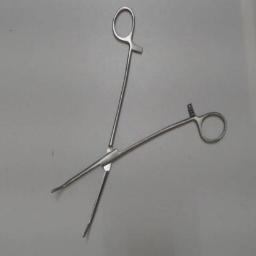Lahey Forceps: (46, 4, 230, 242)
